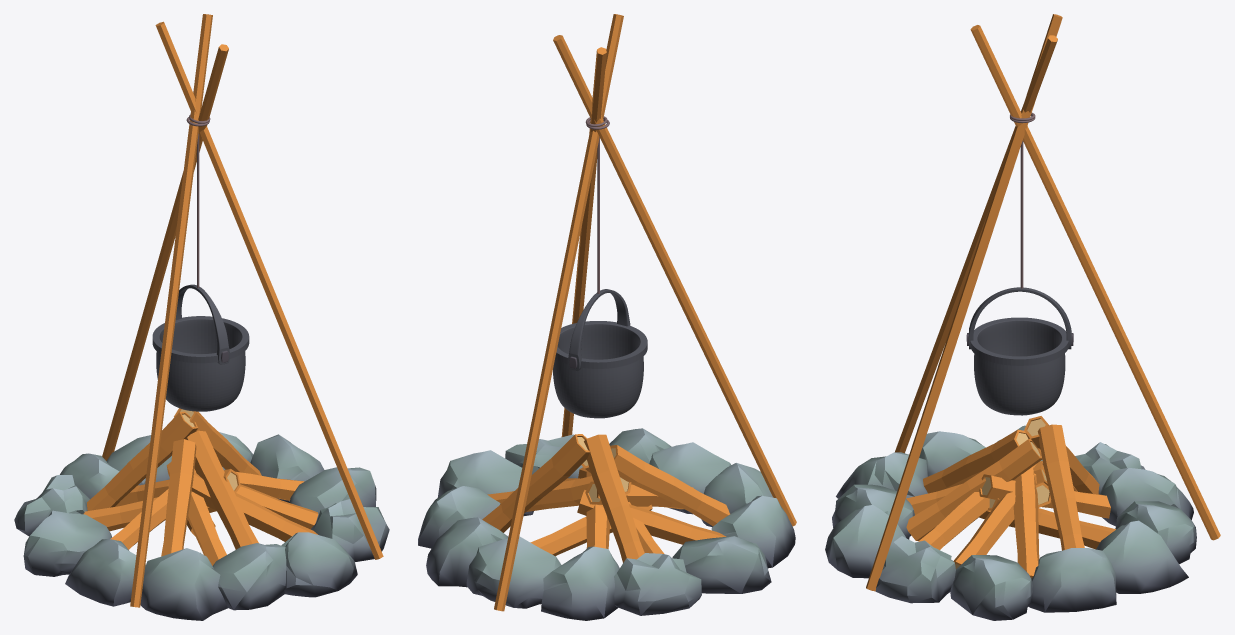
Rendered from Camp fire 1 merebus.fbx.
3 views of the same model, side by side, from view 1: azimuth 30°, elevation 25°; view 2: azimuth 150°, elevation 25°; view 3: azimuth 270°, elevation 25° (orthographic). The views are drawn at different scales.
Parts seen in each view (by area): view 1: Cylinder.015, Cylinder.013, Cylinder.014, SmallRock5.001, SmallRock3.002, Cylinder.012, SmallRock3.001, SmallRock5.002, SmallRock4.001, Cylinder, SmallRock2, Cylinder.003 (+15 smaller); view 2: Cylinder.015, Cylinder.012, Cylinder.013, SmallRock4.002, SmallRock2.001, SmallRock3.001, SmallRock3.003, SmallRock4.001, Cylinder.003, SmallRock5, Cylinder.008, SmallRock3 (+13 smaller); view 3: Cylinder.015, Cylinder.012, Cylinder.014, SmallRock4, SmallRock3, SmallRock5, SmallRock2, Cylinder.013, SmallRock5.002, Cylinder.002, Cylinder, SmallRock4.002 (+15 smaller).
Boxes of the visible parts, bbox=[...] form: Cylinder.015: bbox=[152, 316, 249, 411]; Cylinder.013: bbox=[130, 14, 212, 607]; Cylinder.014: bbox=[155, 21, 383, 559]; SmallRock5.001: bbox=[140, 548, 227, 620]; SmallRock3.002: bbox=[212, 543, 286, 610]; Cylinder.012: bbox=[102, 44, 228, 460]; SmallRock3.001: bbox=[23, 510, 111, 576]; SmallRock5.002: bbox=[281, 532, 357, 597]; SmallRock4.001: bbox=[65, 539, 145, 606]; Cylinder: bbox=[186, 430, 258, 549]; SmallRock2: bbox=[310, 499, 389, 561]; Cylinder.003: bbox=[87, 411, 198, 510]; Cylinder.015: bbox=[553, 321, 647, 418]; Cylinder.012: bbox=[494, 14, 623, 611]; Cylinder.013: bbox=[553, 35, 796, 526]; SmallRock4.002: bbox=[541, 546, 619, 620]; SmallRock2.001: bbox=[614, 553, 701, 615]; SmallRock3.001: bbox=[672, 536, 771, 593]; SmallRock3.003: bbox=[466, 536, 561, 608]; SmallRock4.001: bbox=[711, 495, 795, 568]; Cylinder.003: bbox=[584, 434, 644, 562]; SmallRock5: bbox=[426, 517, 508, 587]; Cylinder.008: bbox=[610, 445, 729, 526]; SmallRock3: bbox=[437, 450, 533, 516]; Cylinder.015: bbox=[970, 317, 1068, 415]; Cylinder.012: bbox=[970, 25, 1220, 540]; Cylinder.014: bbox=[866, 14, 1062, 591]; SmallRock4: bbox=[1028, 548, 1116, 612]; SmallRock3: bbox=[950, 555, 1032, 620]; SmallRock5: bbox=[1096, 520, 1188, 593]; SmallRock2: bbox=[875, 536, 955, 603]; Cylinder.013: bbox=[895, 35, 1057, 453]; SmallRock5.002: bbox=[825, 505, 906, 578]; Cylinder.002: bbox=[1037, 424, 1084, 550]; Cylinder: bbox=[906, 439, 1042, 540]; SmallRock4.002: bbox=[1100, 467, 1193, 526].
Size of the model in its own units: 613 by 883 by 615.
